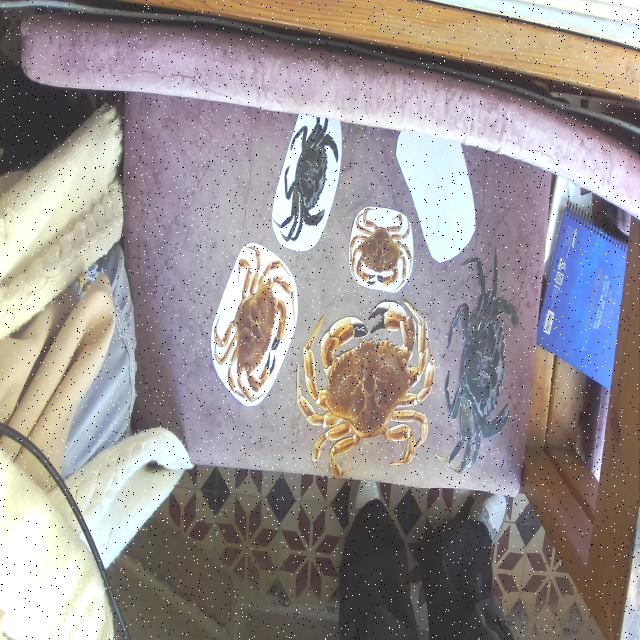European_Green_Crab: (433, 227, 529, 490), (269, 88, 348, 263)
